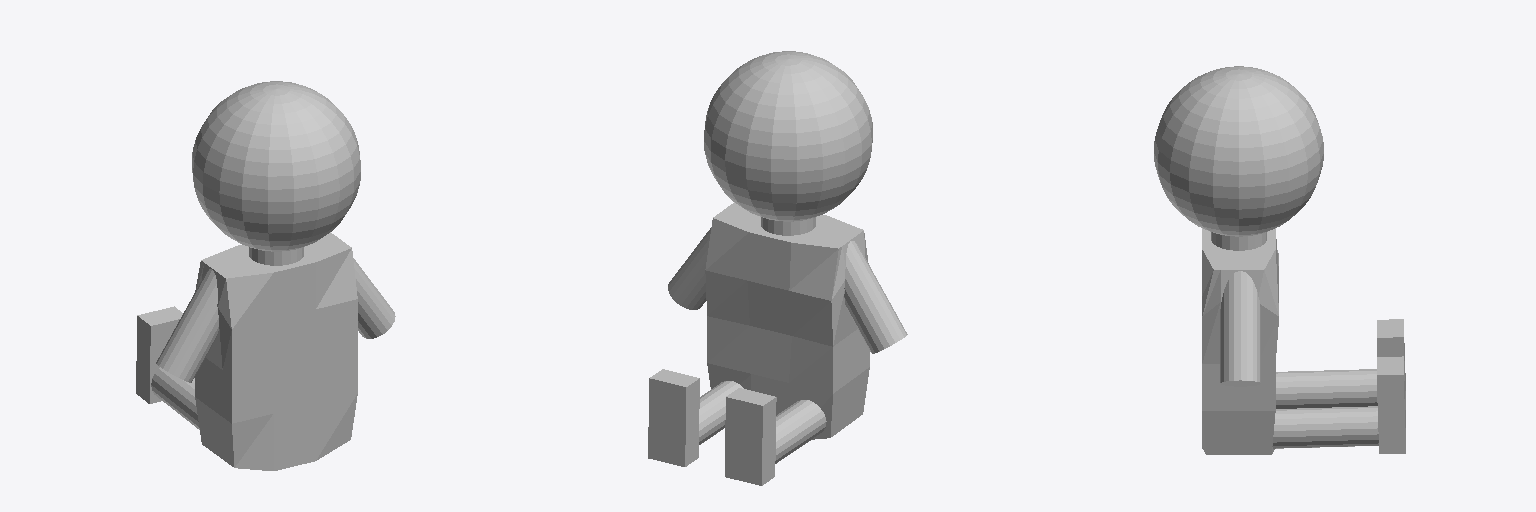
Rendered from Placeholder sitting NPC.obj.
The picture shows the model from 3 angles: view 1: azimuth 30°, elevation 25°; view 2: azimuth 150°, elevation 25°; view 3: azimuth 270°, elevation 25°; orthographic projection.
Parts seen in each view (by area): view 1: PlaceholderSittiingNPC_pCylinder6; view 2: PlaceholderSittiingNPC_pCylinder6; view 3: PlaceholderSittiingNPC_pCylinder6.
Part boxes in pixels (left/top/right/bottom): PlaceholderSittiingNPC_pCylinder6: left=136, top=81, right=395, bottom=470; PlaceholderSittiingNPC_pCylinder6: left=648, top=51, right=907, bottom=485; PlaceholderSittiingNPC_pCylinder6: left=1154, top=66, right=1405, bottom=454.
Size of the model in its own units: 3.16 by 4.7 by 2.96.